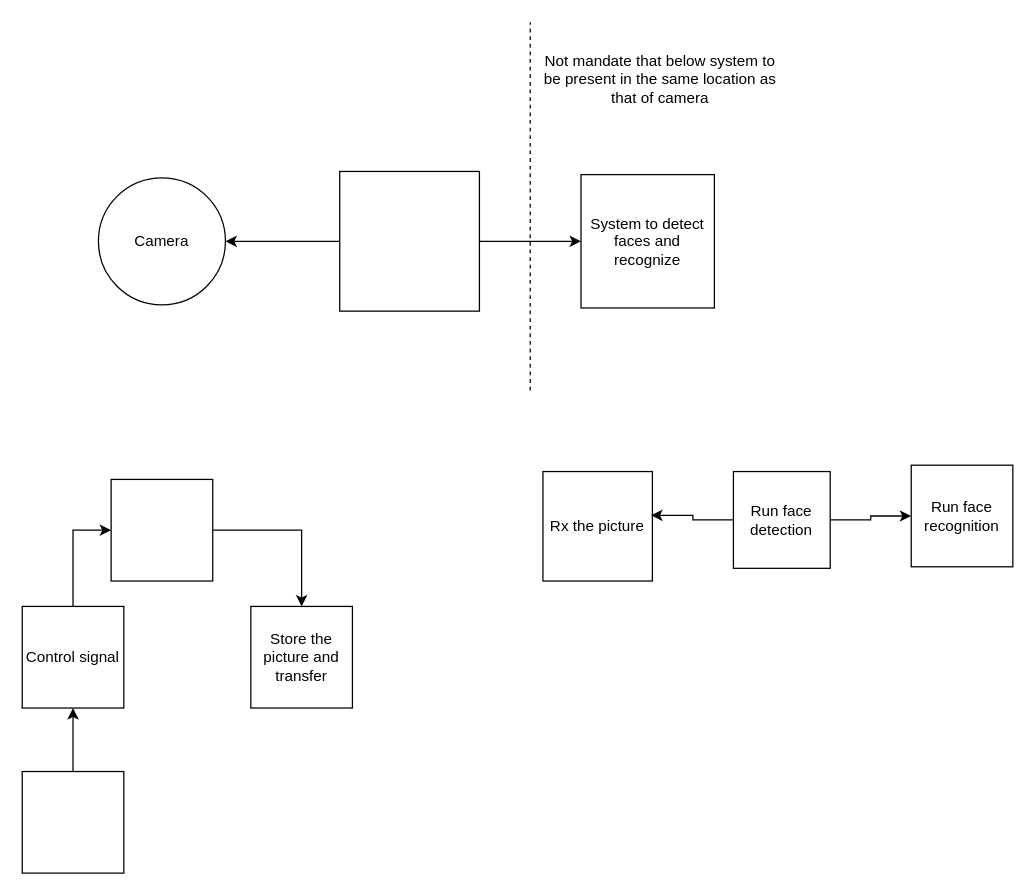
Some shapes in this 1035 by 895 pixel diagram are drawn without their labels. The shapes that lost their labels are listed below. From the top down, each one's centre as x and y in pixels, then its label:
At (x=408, y=240): "System to control camera".
At (x=161, y=529): "Camera takes picture".
At (x=72, y=821): "Every 5 min".
